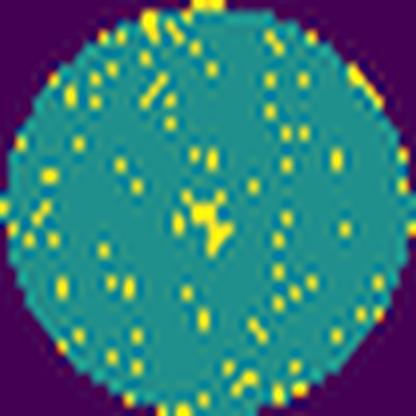Center: (187, 187, 238, 261)
